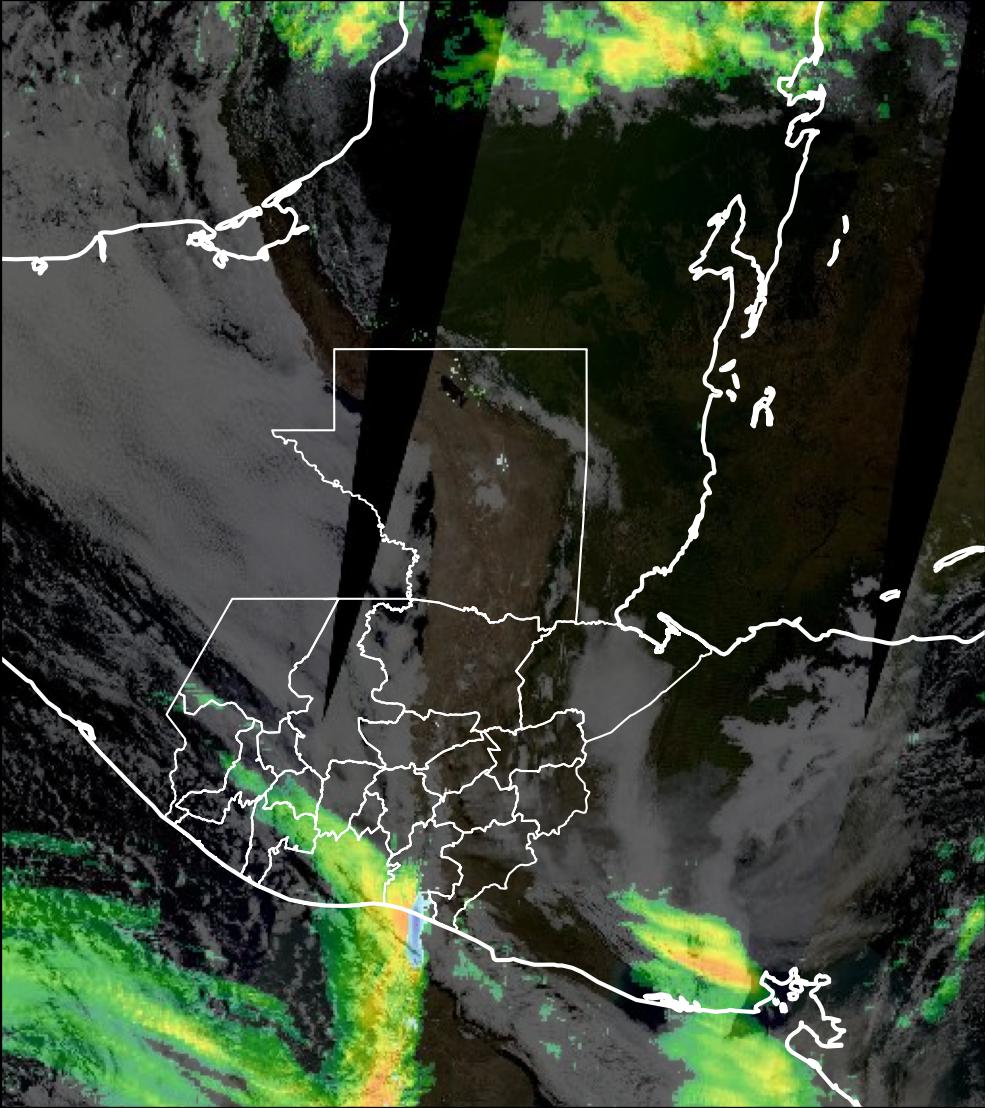precipitacion: (657, 907, 792, 1010), (327, 1024, 434, 1108), (586, 9, 711, 73)
